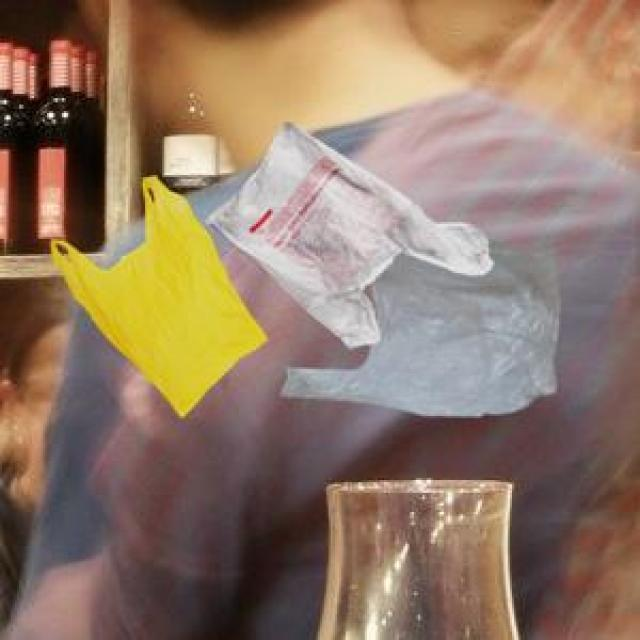waste: (208, 125, 560, 416), (51, 178, 266, 416)
